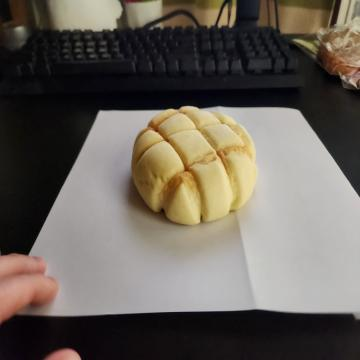melon_bread: (129, 100, 258, 228)
